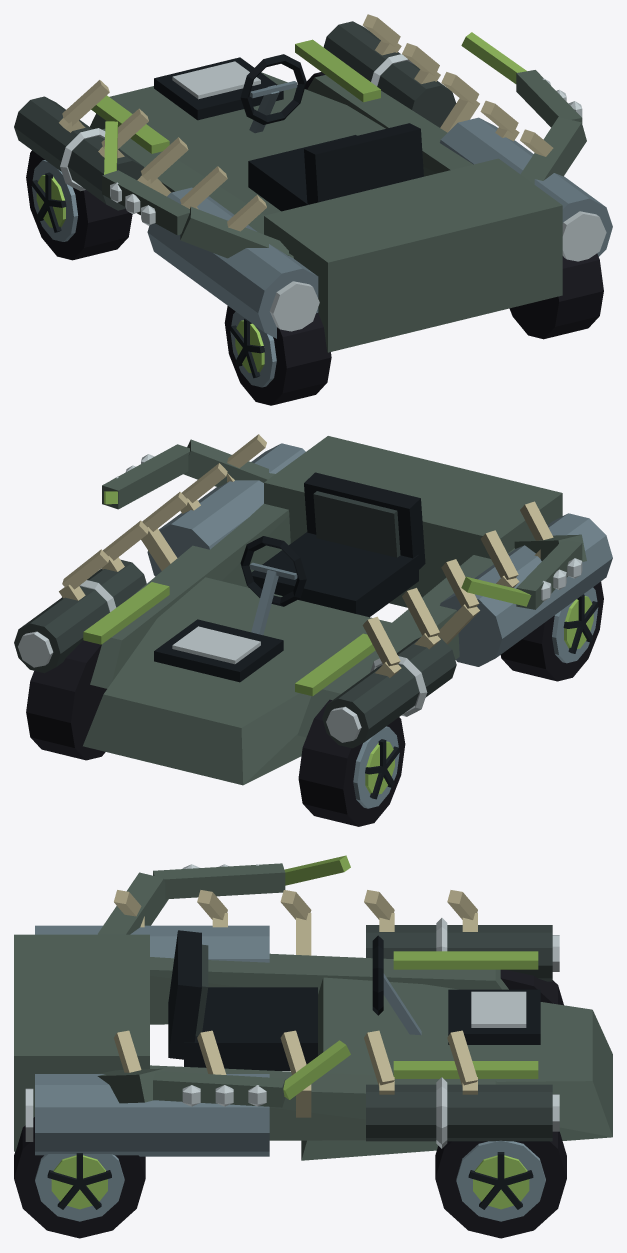
The model's file is kart.glb.
3 renders of one model, top to bottom at view 1: azimuth 30°, elevation 25°; view 2: azimuth 150°, elevation 25°; view 3: azimuth 270°, elevation 25°, orthographic. The views are drawn at different scales.
Parts seen in each view (by area): view 1: identity-lab-pod-lab-pod-segmented-shell, identity-lab-pod-driver-cockpit, identity-lab-pod-motif-tentacles, identity-lab-pod-motif-plasma, identity-lab-pod-motif-ribs, wheel-rear-left, wheel-front-left, wheel-rear-right; view 2: identity-lab-pod-lab-pod-segmented-shell, identity-lab-pod-driver-cockpit, identity-lab-pod-motif-plasma, identity-lab-pod-motif-ribs, identity-lab-pod-motif-tentacles, wheel-front-left, wheel-front-right, wheel-rear-left; view 3: identity-lab-pod-lab-pod-segmented-shell, identity-lab-pod-motif-plasma, identity-lab-pod-driver-cockpit, identity-lab-pod-motif-tentacles, wheel-front-right, wheel-rear-right, identity-lab-pod-motif-ribs, wheel-front-left.
Boxes of the visible parts, x1,y1,x2,y2 form: identity-lab-pod-lab-pod-segmented-shell: [90, 39, 612, 352]; identity-lab-pod-driver-cockpit: [240, 54, 423, 211]; identity-lab-pod-motif-tentacles: [102, 32, 586, 258]; identity-lab-pod-motif-plasma: [14, 21, 456, 210]; identity-lab-pod-motif-ribs: [59, 14, 553, 231]; wheel-rear-left: [224, 306, 331, 405]; wheel-front-left: [26, 150, 132, 260]; wheel-rear-right: [509, 253, 603, 339]; identity-lab-pod-lab-pod-segmented-shell: [83, 436, 612, 785]; identity-lab-pod-driver-cockpit: [240, 472, 425, 635]; identity-lab-pod-motif-plasma: [14, 559, 456, 748]; identity-lab-pod-motif-ribs: [59, 434, 553, 677]; identity-lab-pod-motif-tentacles: [102, 439, 586, 609]; wheel-front-left: [298, 699, 405, 826]; wheel-front-right: [26, 640, 106, 760]; wheel-rear-left: [500, 581, 603, 681]; identity-lab-pod-lab-pod-segmented-shell: [14, 925, 612, 1160]; identity-lab-pod-motif-plasma: [366, 918, 559, 1148]; identity-lab-pod-driver-cockpit: [168, 930, 421, 1070]; identity-lab-pod-motif-tentacles: [97, 855, 350, 1107]; wheel-front-right: [435, 1131, 566, 1238]; wheel-rear-right: [14, 1117, 145, 1238]; identity-lab-pod-motif-ribs: [114, 890, 477, 1117]; wheel-front-left: [500, 969, 563, 1005].
Bounding box in the file's own units: 2.45 × 1.09 × 2.73.
